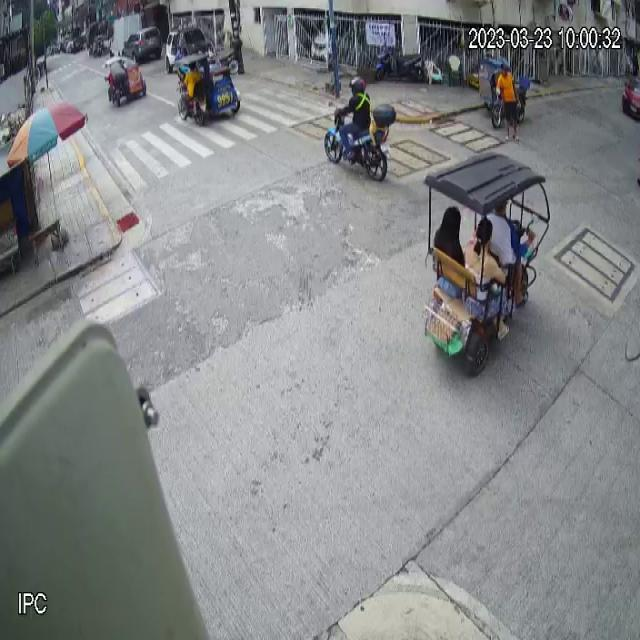Motorcycle: (323, 100, 398, 183)
Tricycle: (176, 53, 241, 127)
